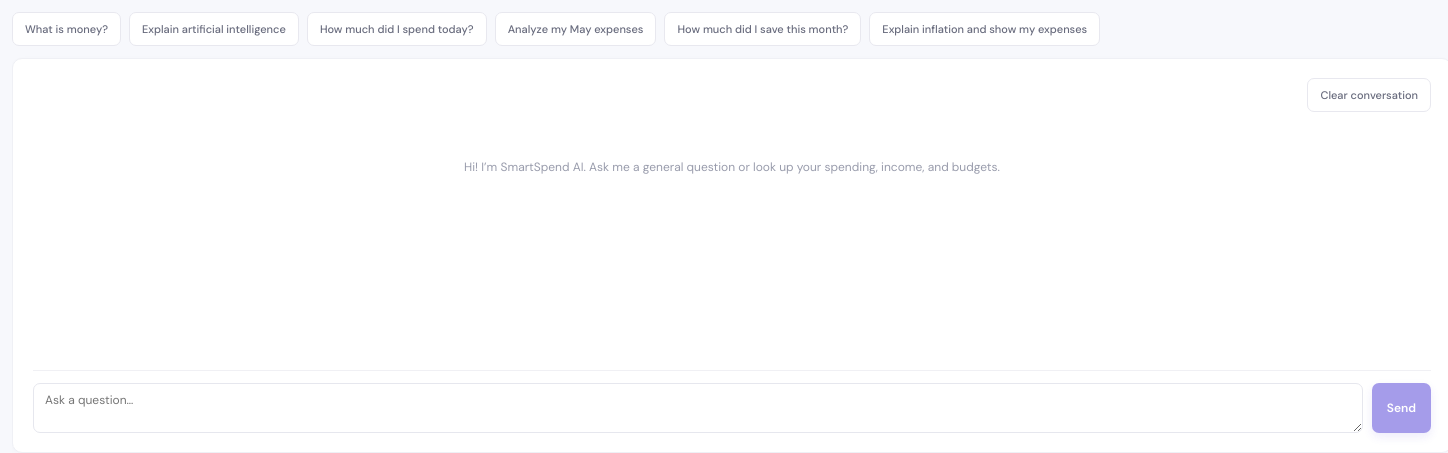
Scenario: Financial assistant chat › restores only the active account conversation and clears it
The image size is (1448, 453).
Later steps or results of the test are not shown.
Step 1. Type "What were my savings?" into the text box named "Message" → (698, 408), box [33,383,1363,433]
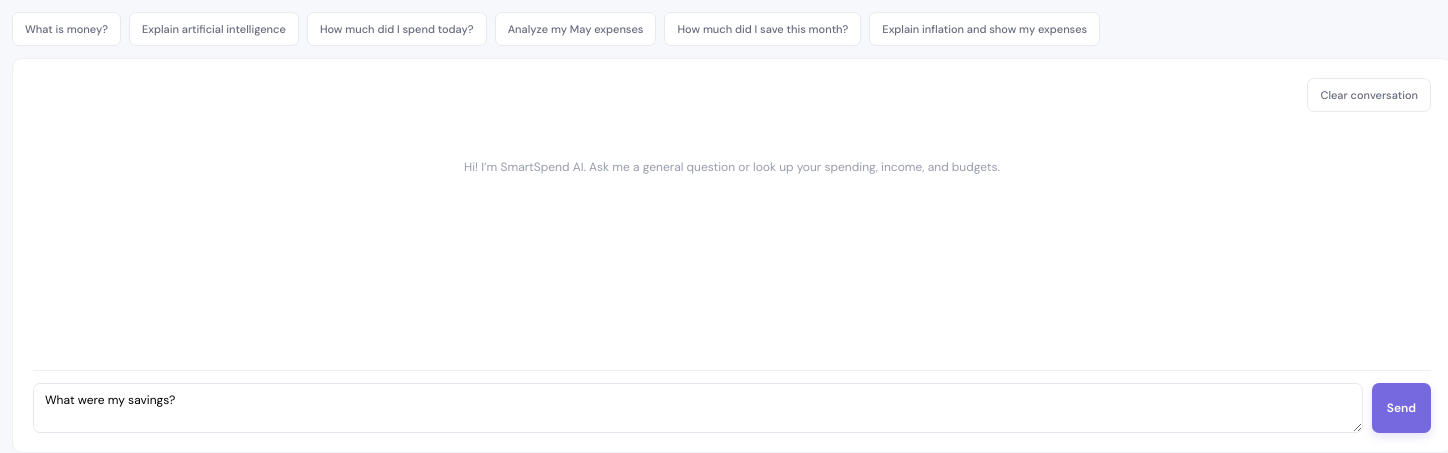
Step 2. Submit the form named "Message", box [33,370,1431,433]
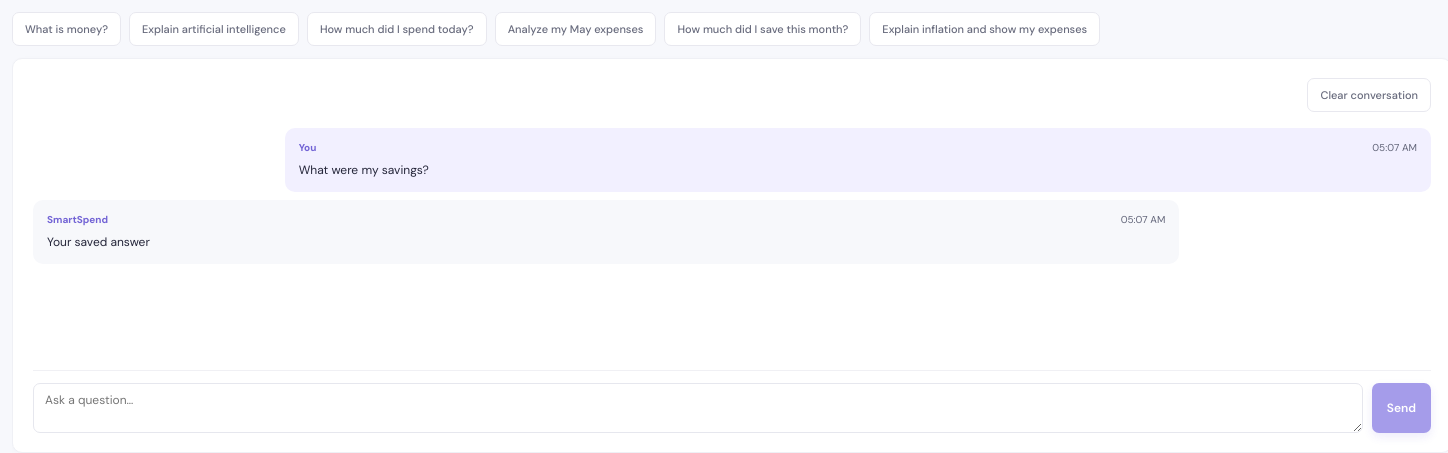
Expected: the text "Your saved answer" is shown, [47,234,150,250]
